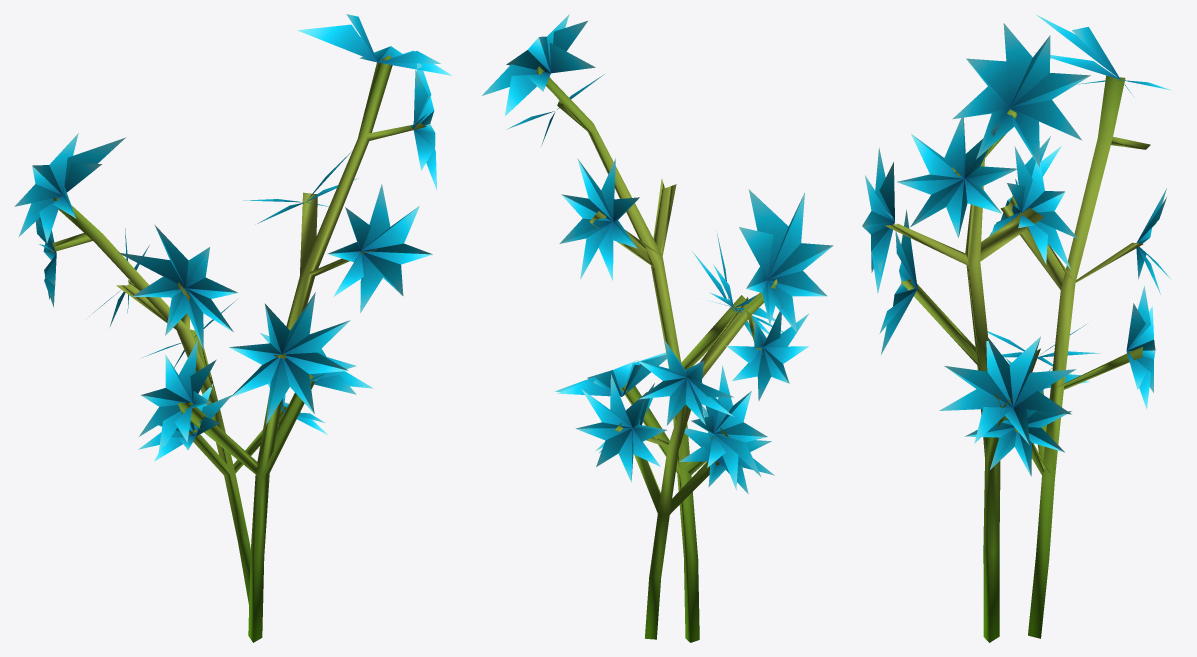
Rendered from Flower 4.glb.
The picture shows the model from 3 angles, left to right: view 1: azimuth 30°, elevation 25°; view 2: azimuth 150°, elevation 25°; view 3: azimuth 270°, elevation 25°; orthographic projection. The views are drawn at different scales.
Visible parts, largest first — view 1: Flower 4; view 2: Flower 4; view 3: Flower 4.
Part boxes in pixels (box(x1,y1,x2,y2)): Flower 4: box(14, 14, 452, 642); Flower 4: box(482, 14, 833, 642); Flower 4: box(862, 14, 1171, 642).
Bounding box in the file's own units: 0.4448 × 0.7 × 0.3038.
Materials: 2 (2 with a texture image).
